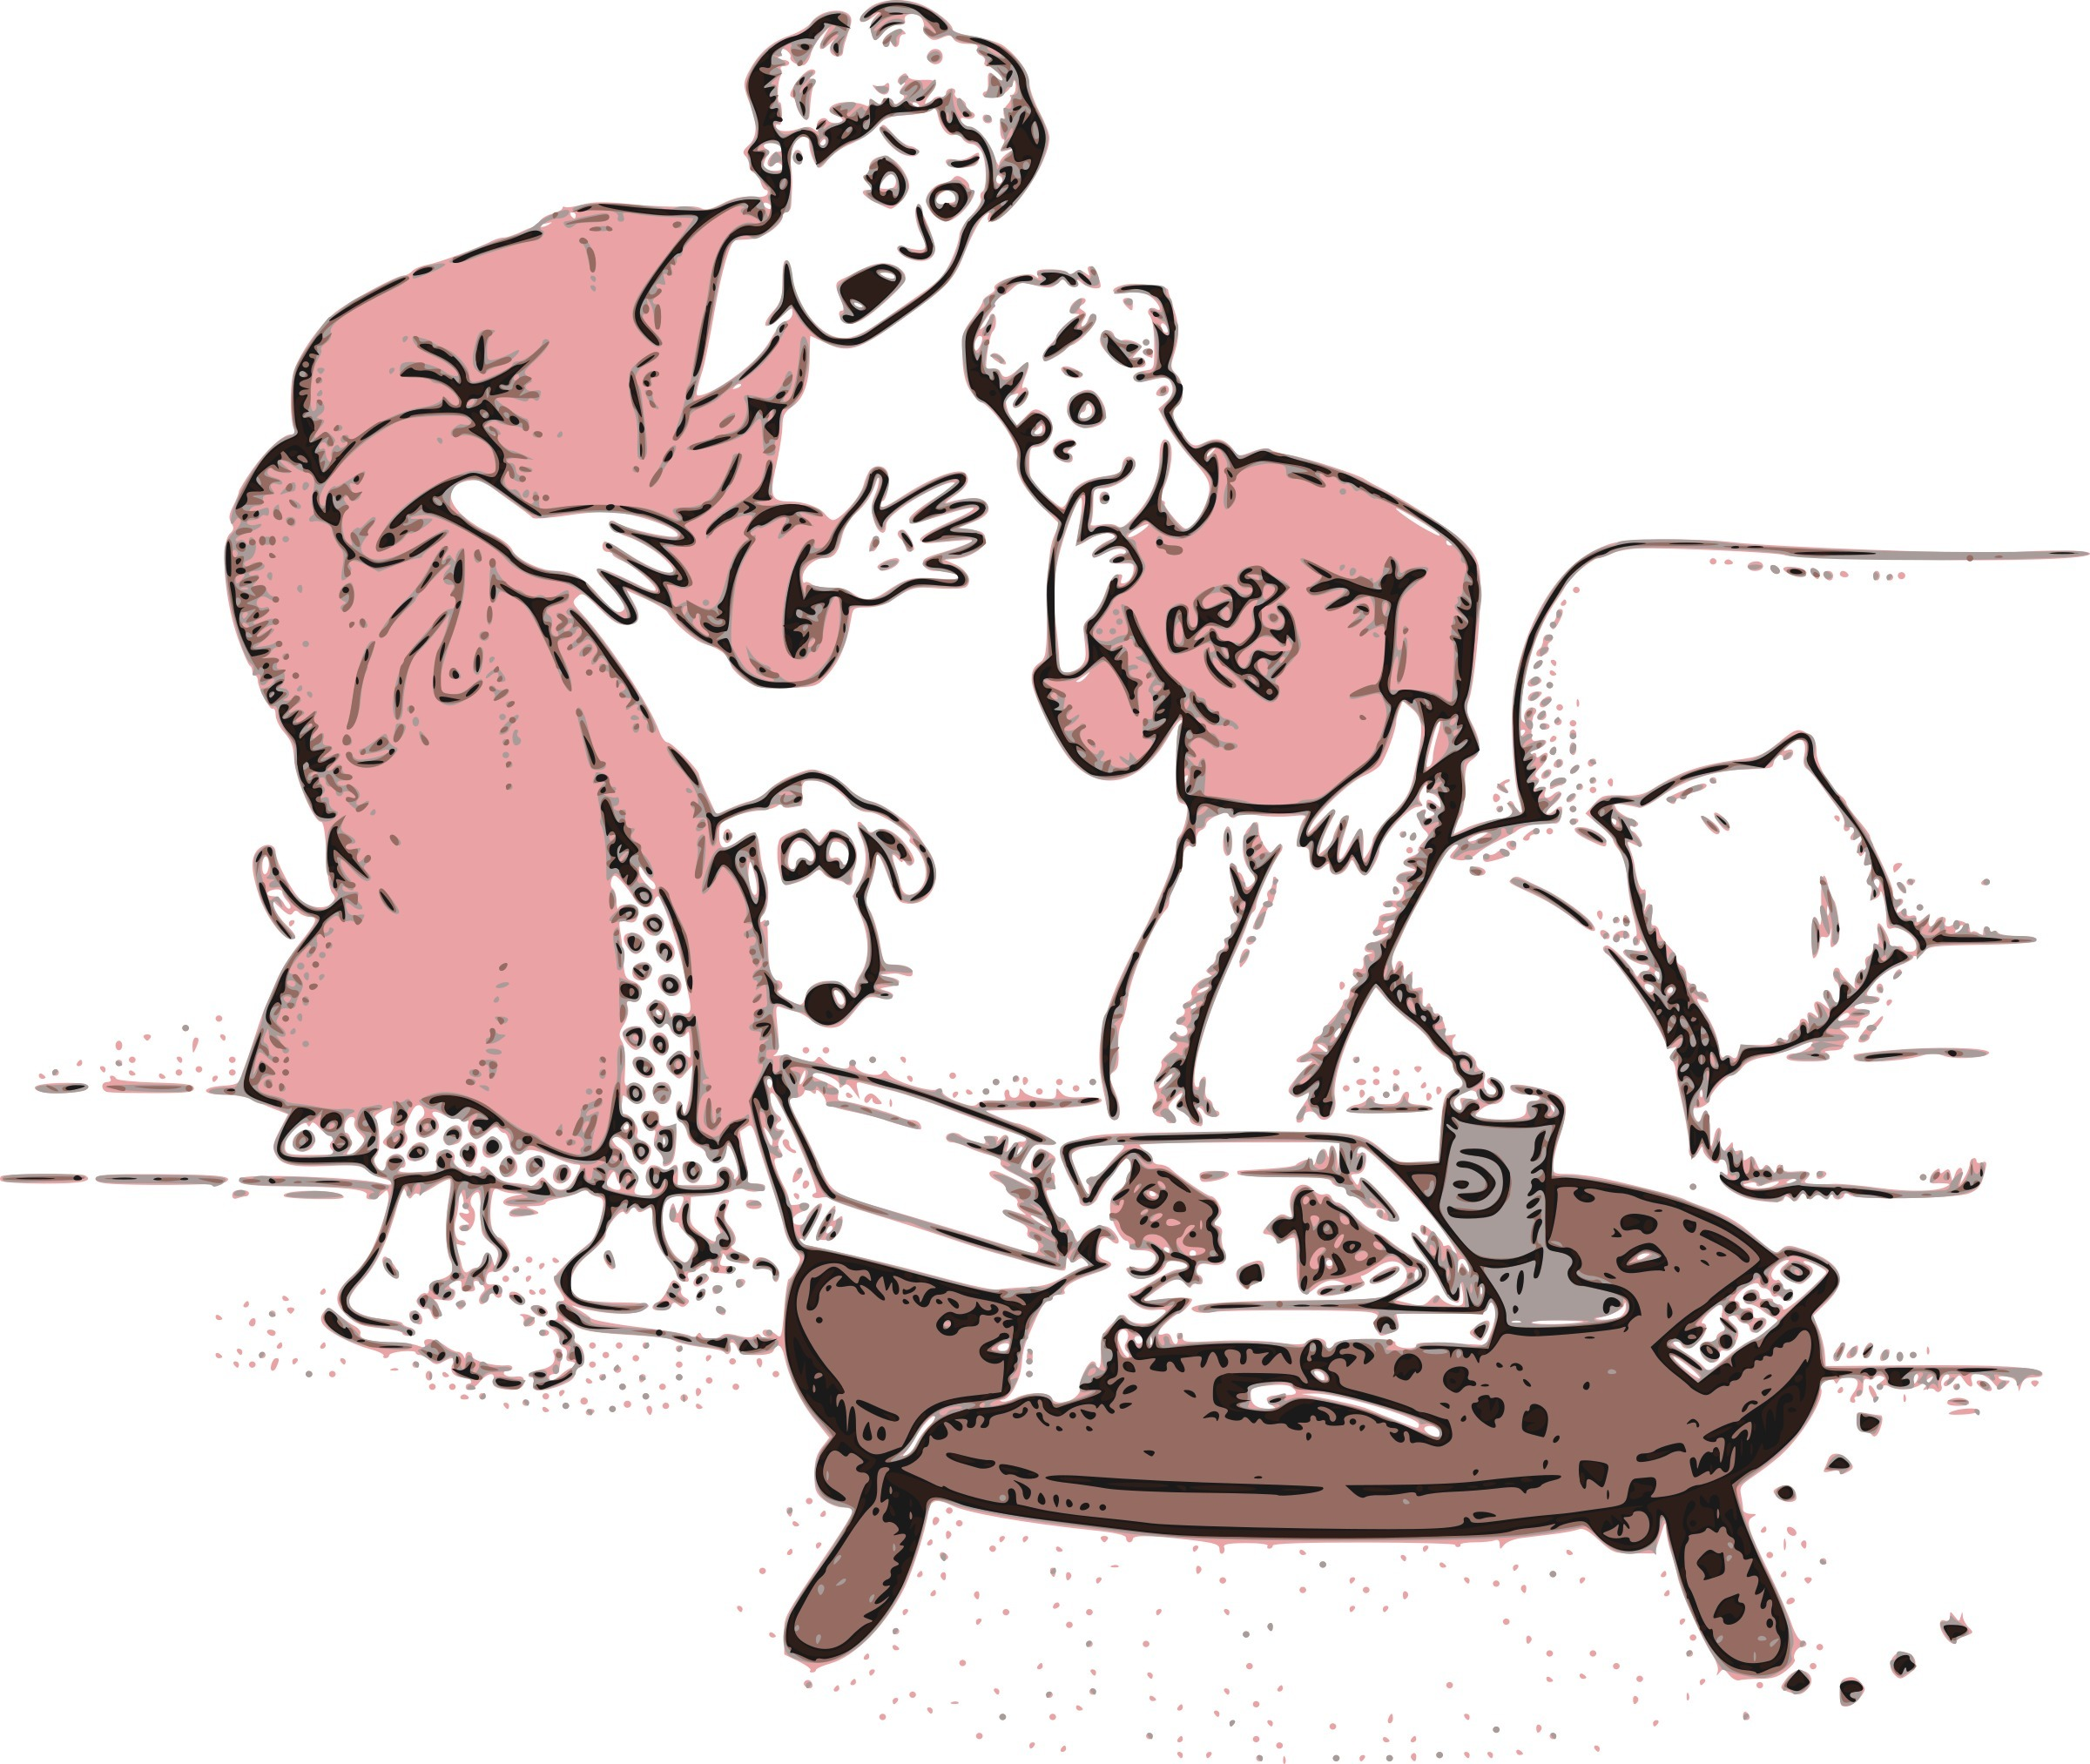diningtable: (736, 1182, 1855, 1709)
dog: (695, 764, 931, 1058)
person: (93, 3, 1046, 1417), (936, 257, 1479, 1176)
sofa: (1289, 500, 2070, 1389)
